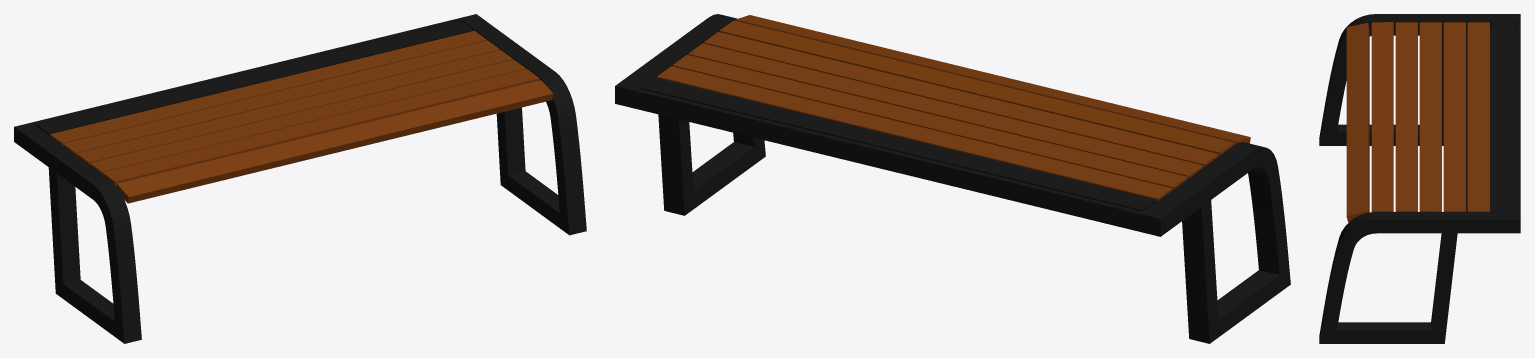
The model's file is StreetBench1_M_v1_Carrie.FBX.
3 renders of one model, left to right at view 1: azimuth 30°, elevation 25°; view 2: azimuth 150°, elevation 25°; view 3: azimuth 270°, elevation 25°, orthographic. The views are drawn at different scales.
Parts seen in each view (by area): view 1: StreetBench; view 2: StreetBench; view 3: StreetBench.
Part boxes in pixels (x1,y1,x2,y2): StreetBench: (14, 14, 586, 343); StreetBench: (615, 14, 1290, 343); StreetBench: (1319, 14, 1520, 343).
Size of the model in its own units: 497 by 140 by 206.
